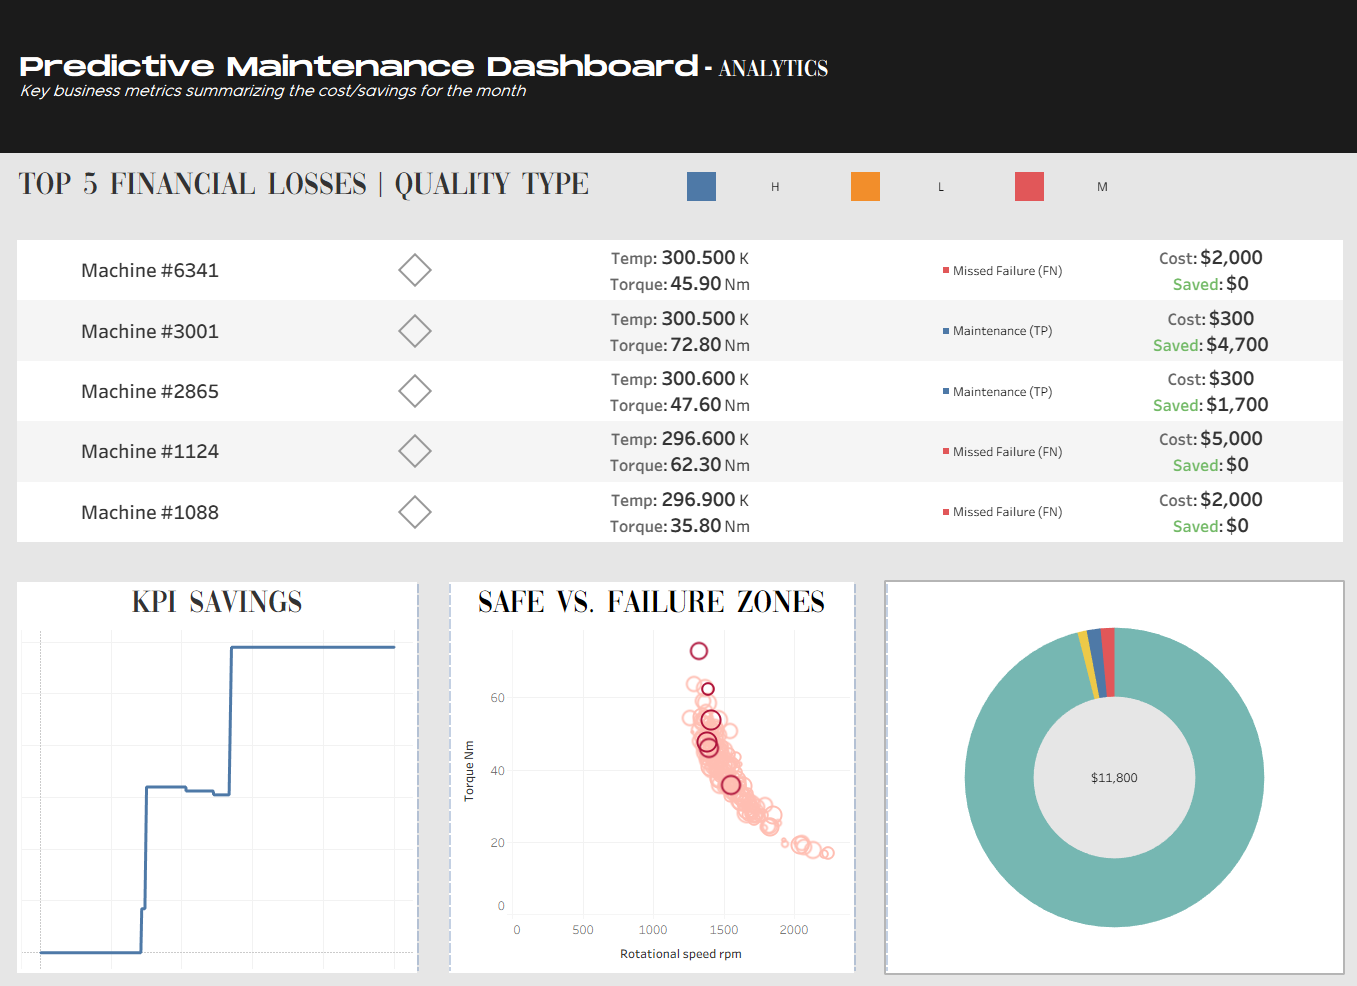

What the dashboard file says about the page in this screenshot:
{"tool":"tableau","page":{"name":"Analytics","canvas":[1366,1000],"ordinal":0},"visuals":[{"type":"text","box":[0,0,1366,160]},{"type":"text","box":[15,175,603,37]},{"type":"worksheet","title":"Buttons","mark":"Square","cols":["Type"],"box":[618,175,500,37]},{"type":"worksheet","title":"Top 5","mark":"Automatic","rows":["UDI"],"cols":["Calculation_1325487778000906","Calculation_1325487778099214","Calculation_1325487778123792","Calculation_1325487778140178","Calculation_1325487778156564"],"box":[0,227,1366,342]},{"type":"worksheet","title":"KPI Savings","mark":"Automatic","rows":["Calculation_1325487766597633"],"cols":["UDI"],"box":[20,589,400,391]},{"type":"blank","box":[420,589,32,391]},{"type":"worksheet","title":"Speed vs. Cost","mark":"Automatic","rows":["Torque_Nm"],"cols":["Rotational_speed_rpm"],"box":[452,589,405,391]},{"type":"blank","box":[857,589,32,391]},{"type":"worksheet","title":"Action Donut","mark":"Pie","rows":["Calculation_1325487776972806","Calculation_1325487777021960"],"box":[889,589,457,391]}]}

Visuals, with their boxes in screenshot pixels (x1, y1, x2, y2), scaled from the page's 1366x1000 canvas onto the 1357x986 screenshot:
text: locate(0, 0, 1356, 158)
text: locate(15, 173, 614, 209)
"Buttons" worksheet (Square marks): locate(614, 173, 1111, 209)
"Top 5" worksheet: locate(0, 224, 1356, 561)
"KPI Savings" worksheet: locate(20, 581, 417, 966)
blank: locate(417, 581, 449, 966)
"Speed vs. Cost" worksheet: locate(449, 581, 851, 966)
blank: locate(851, 581, 883, 966)
"Action Donut" worksheet (Pie marks): locate(883, 581, 1337, 966)
